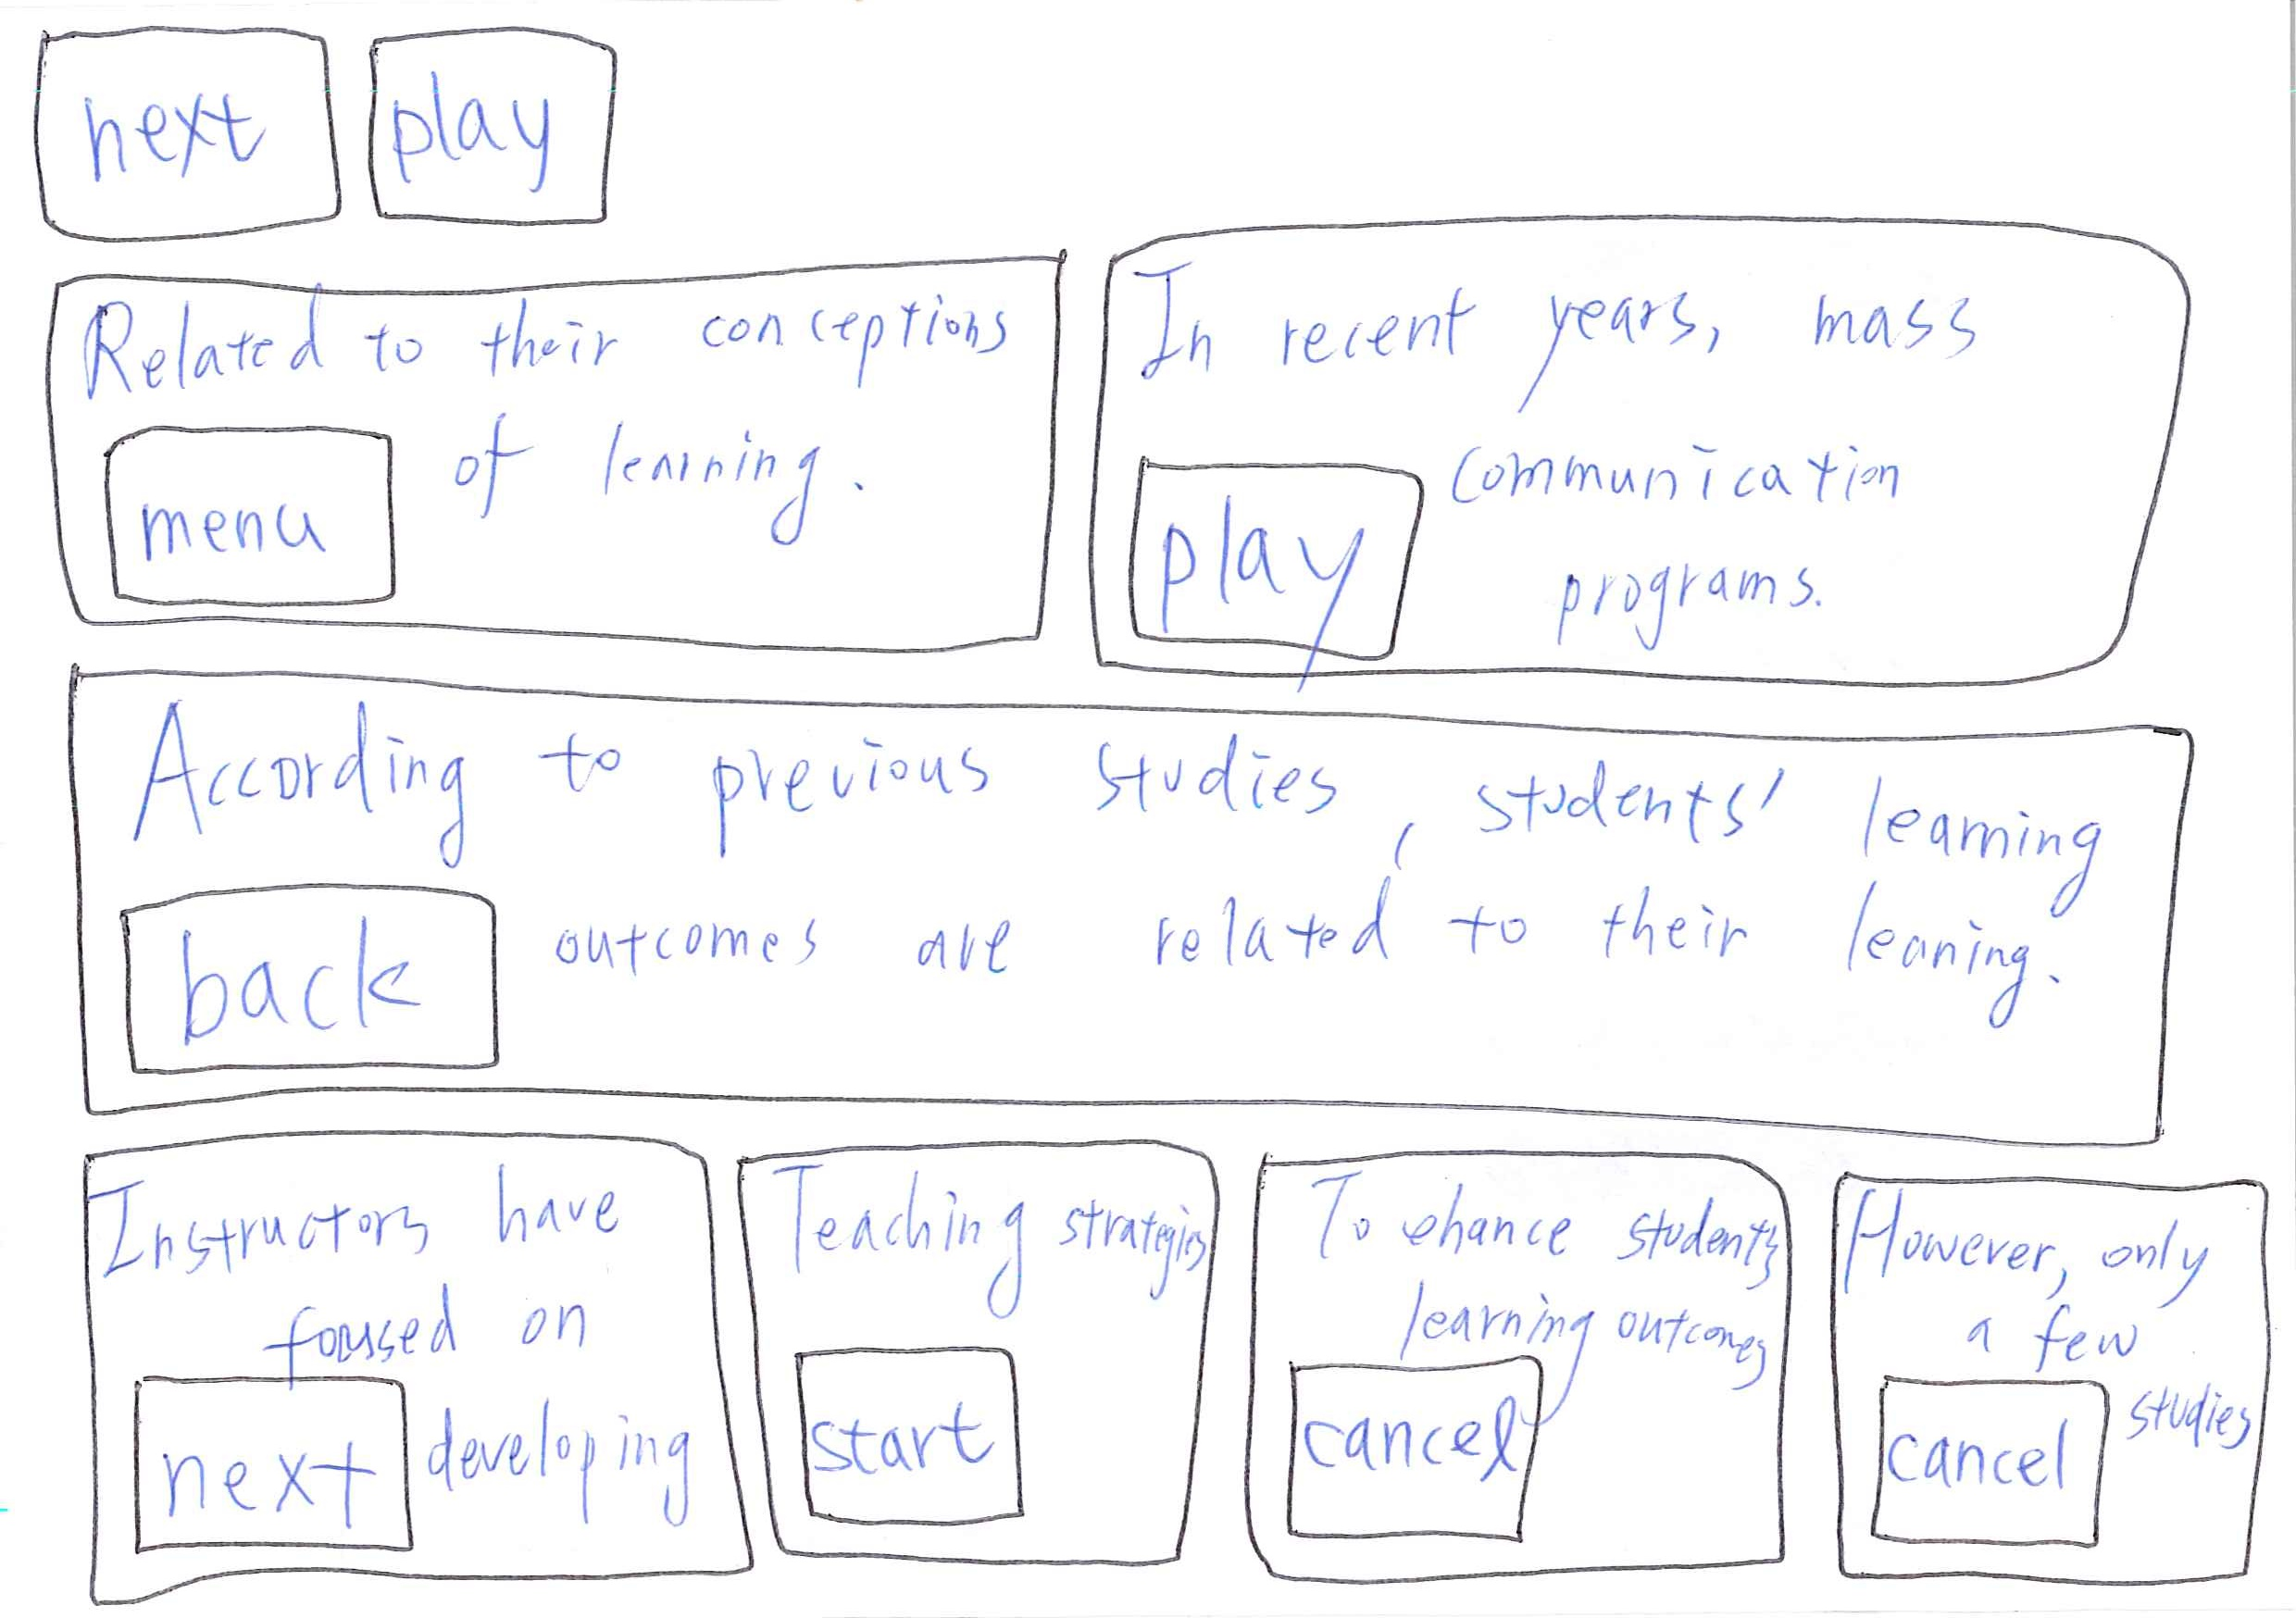back: (100, 872, 527, 1077)
cancel: (771, 1317, 1053, 1543), (1261, 1341, 1564, 1550), (1853, 1362, 2142, 1579)
double: (1070, 221, 2273, 700), (19, 235, 1077, 671)
menu: (74, 410, 406, 613)
next: (11, 14, 359, 250), (114, 1364, 429, 1572)
play: (1102, 436, 1427, 665), (361, 16, 632, 261)
quadruple: (35, 1112, 744, 1618), (1238, 1143, 1834, 1618), (715, 1114, 1228, 1600), (1802, 1143, 2284, 1604)
row: (2, 200, 2296, 734), (2, 685, 2296, 1147), (2, 1156, 2296, 1618), (12, 2, 2296, 263)
single: (26, 636, 2252, 1159)
small-title: (109, 702, 2100, 884), (1142, 256, 2011, 394), (102, 284, 1012, 415), (95, 1163, 653, 1292), (786, 1161, 1191, 1305), (1312, 1177, 1764, 1277), (1856, 1192, 2208, 1287)
text: (550, 865, 2079, 1047), (1447, 413, 1926, 634), (422, 1357, 699, 1541), (457, 406, 862, 522), (226, 1296, 592, 1378), (1410, 1285, 1741, 1355), (1951, 1298, 2175, 1380), (2145, 1387, 2231, 1487)
